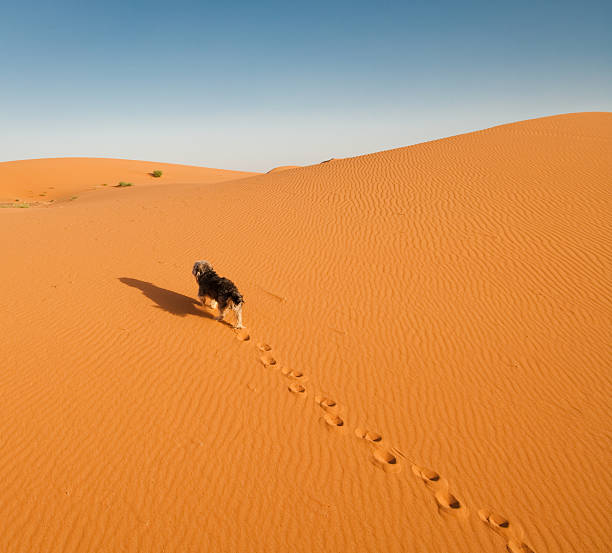animal_foot_print: (412, 464, 466, 515), (478, 509, 533, 552), (434, 488, 465, 514), (373, 447, 400, 472), (412, 465, 440, 484), (355, 427, 381, 443), (315, 395, 338, 412), (323, 412, 344, 429), (281, 368, 306, 381), (259, 352, 276, 366), (288, 381, 305, 394), (234, 327, 249, 340), (256, 342, 271, 351)
